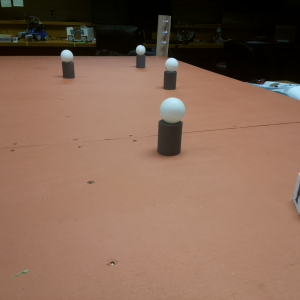corner: (155, 13, 171, 59)
obstacle: (158, 95, 183, 160), (162, 57, 180, 90), (60, 49, 75, 77), (134, 43, 147, 67)
